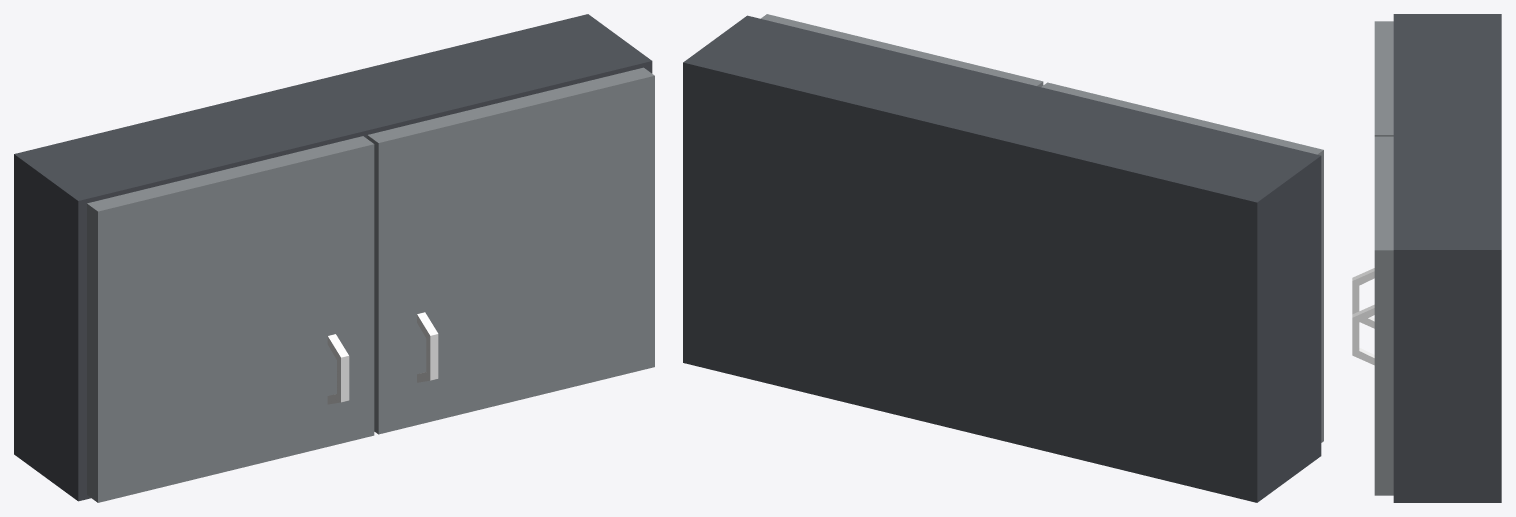
Rendered from Cupboard_5_1.fbx.
3 views of the same model, side by side, from view 1: azimuth 30°, elevation 25°; view 2: azimuth 150°, elevation 25°; view 3: azimuth 270°, elevation 25° (orthographic). The views are drawn at different scales.
Visible parts, largest first — view 1: polySurface1674; view 2: polySurface1674; view 3: polySurface1674.
Part boxes in pixels (x1=…): polySurface1674: x1=14, y1=14, x2=654, y2=502; polySurface1674: x1=683, y1=14, x2=1323, y2=502; polySurface1674: x1=1352, y1=14, x2=1501, y2=502.
Bounding box in the file's own units: 1.8 × 0.9 × 0.4813.
Materials: 1 (1 with a texture image).
